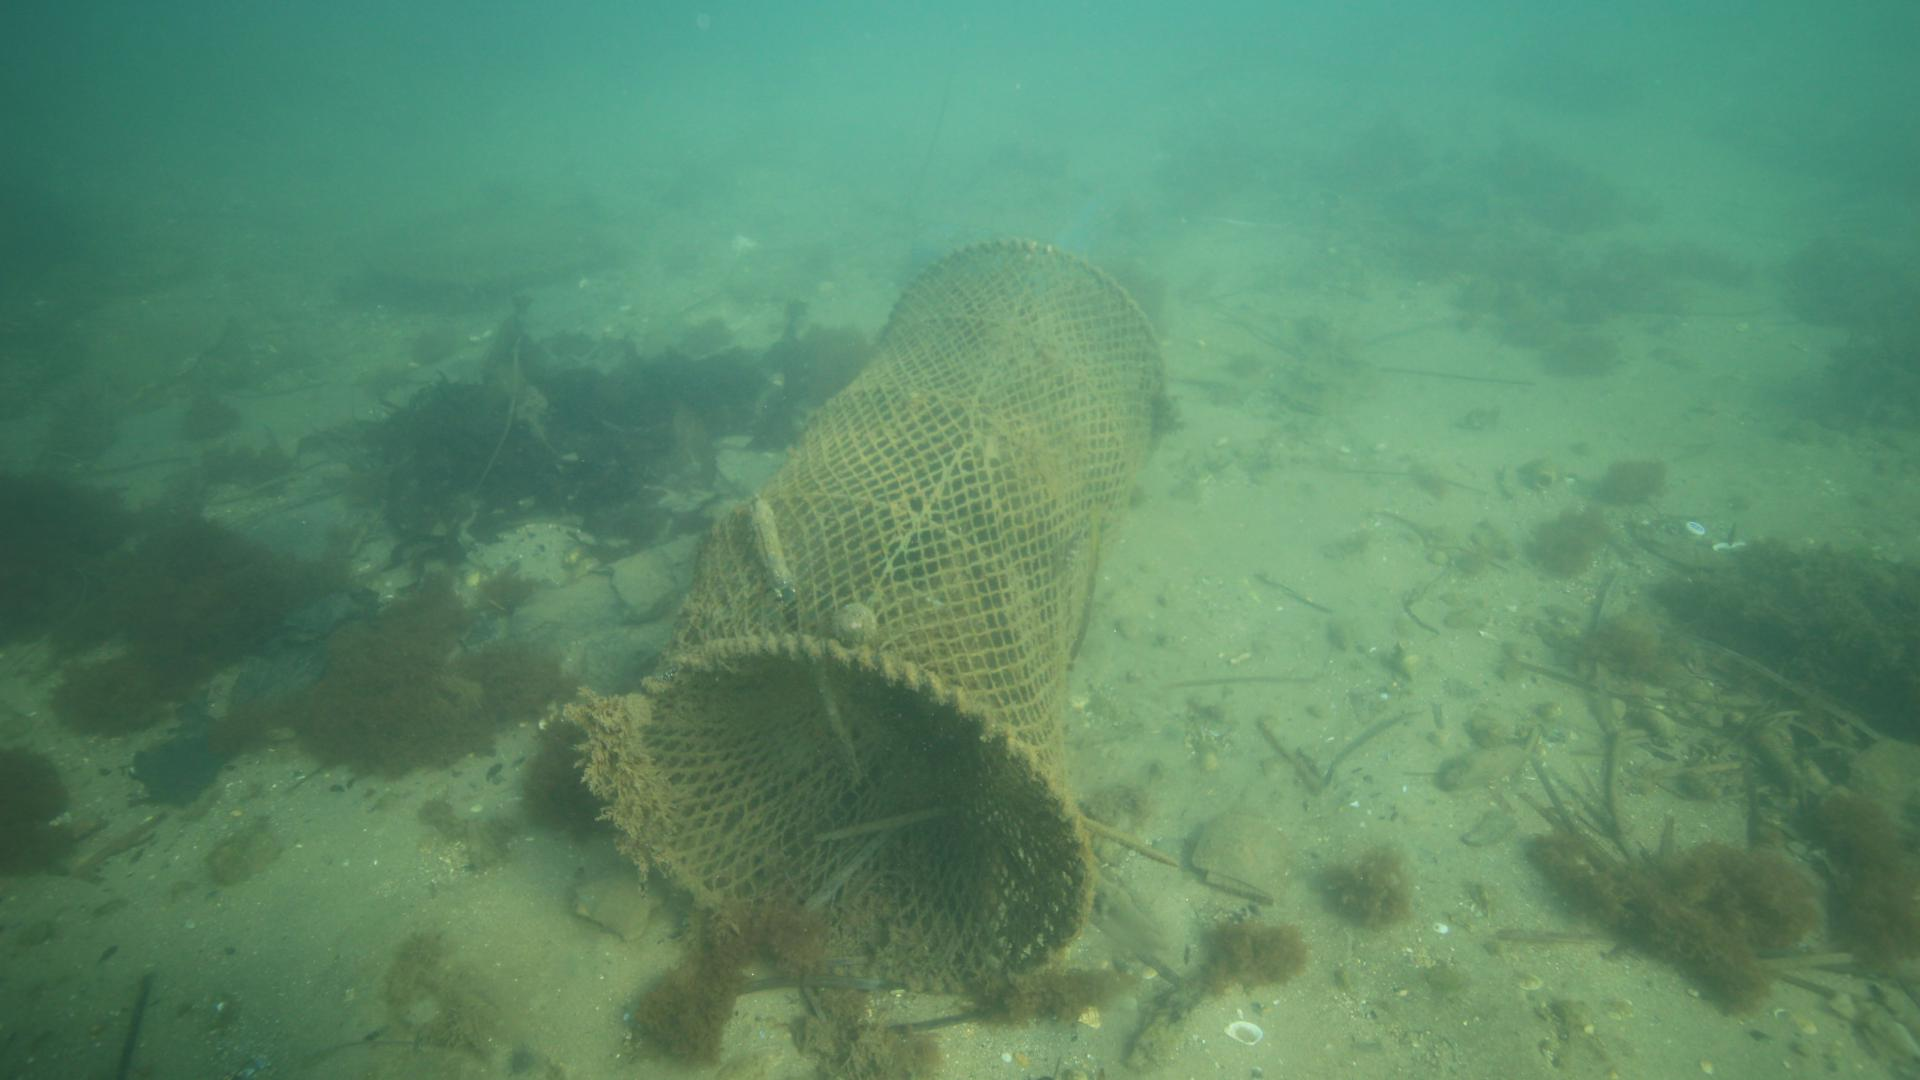spring fish trap: (607, 237, 1167, 1001)
